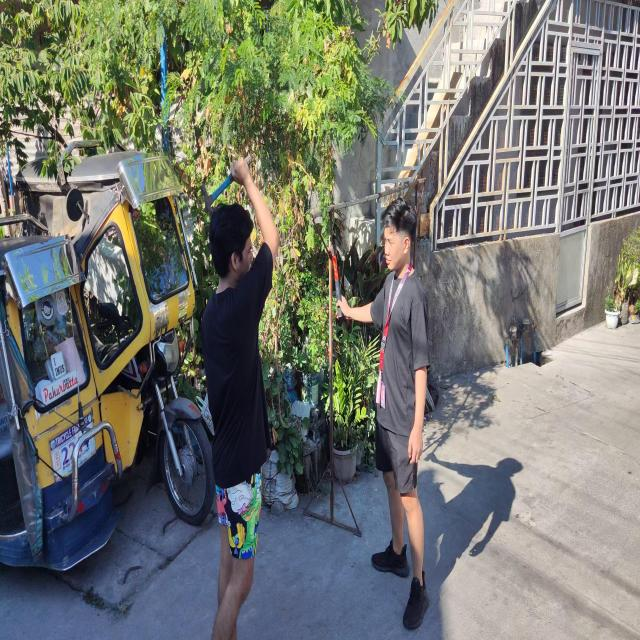hammer: (200, 155, 252, 215), (325, 245, 343, 318)
